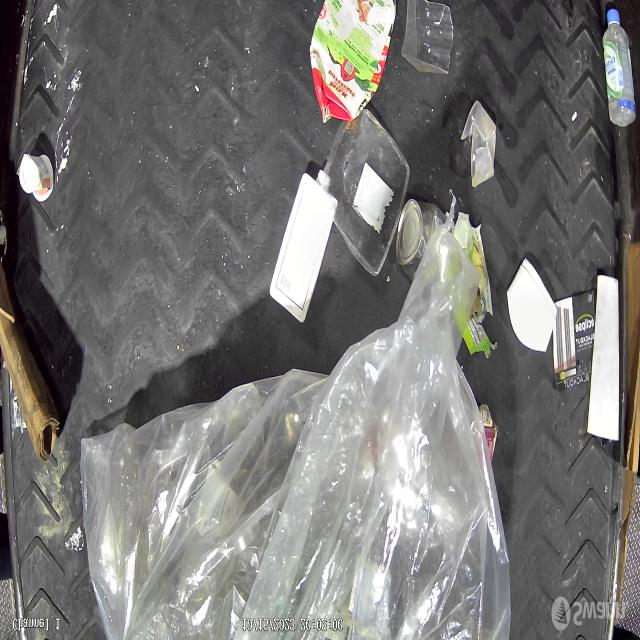can: (395, 199, 452, 283)
milk_jug: (268, 165, 340, 322)
non_white_jug: (310, 0, 398, 130)
plastic_bottle: (601, 5, 636, 127)
